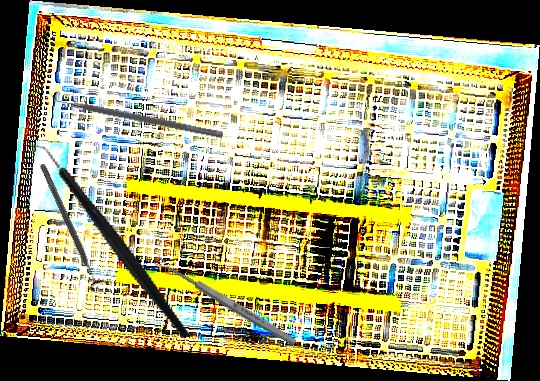Chopper: (22, 115, 194, 367)
Fixation Ring: (32, 159, 110, 294)
Spatula Surgical: (49, 90, 225, 139)
Surgical Spoon: (153, 254, 298, 348)
